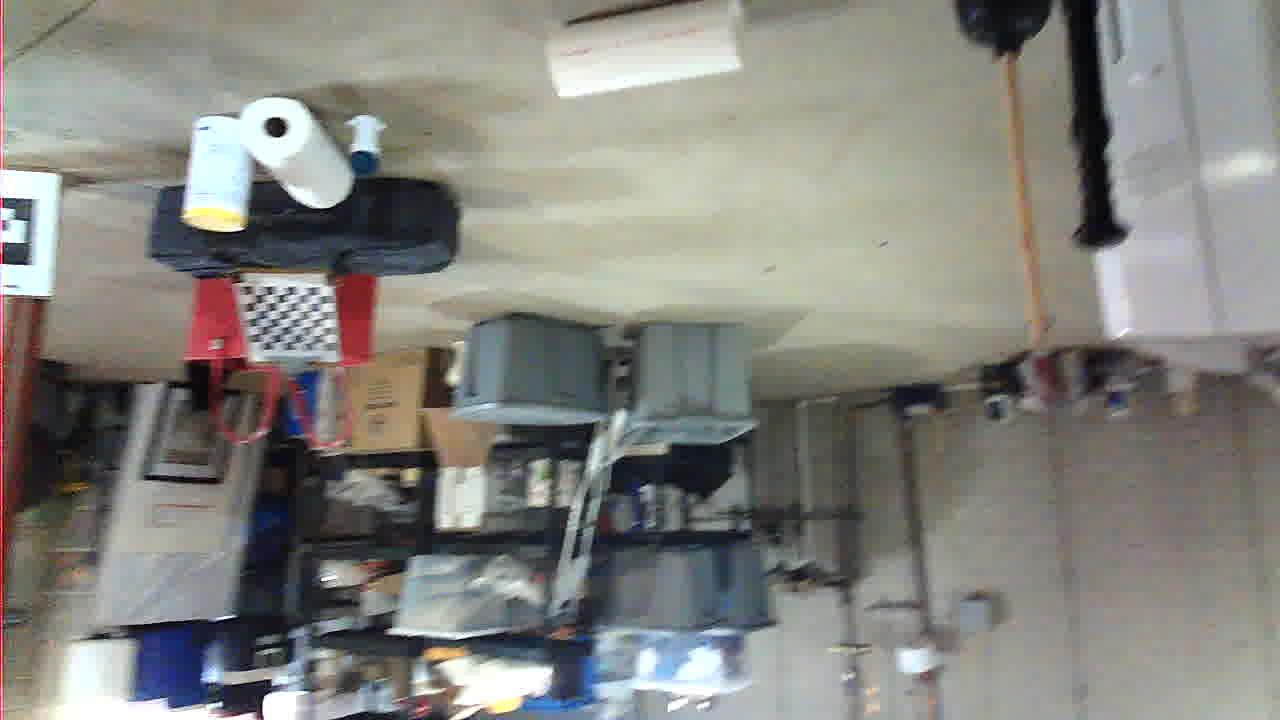coral: (536, 621, 737, 720)
